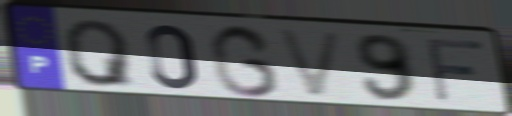0: (143, 22, 200, 92)
9: (352, 32, 423, 104)
F: (423, 36, 488, 106)
G: (207, 22, 283, 100)
Q: (60, 18, 140, 89)
V: (273, 27, 347, 101)
